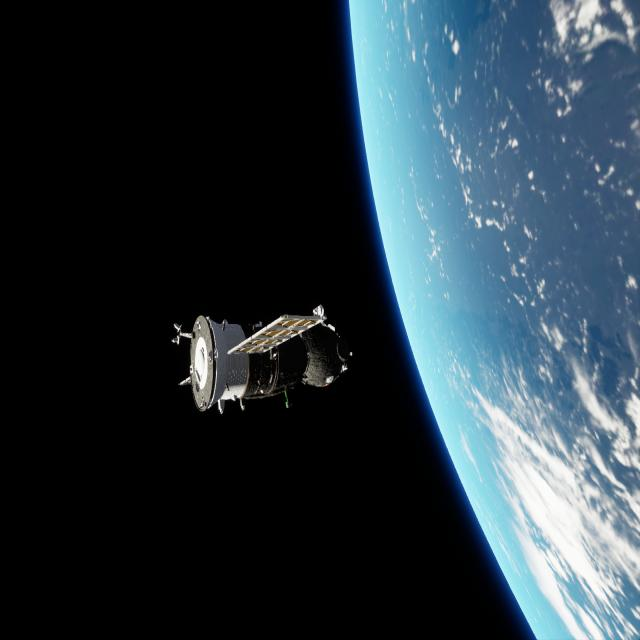Satellites revolving around earth: (170, 303, 354, 417)
